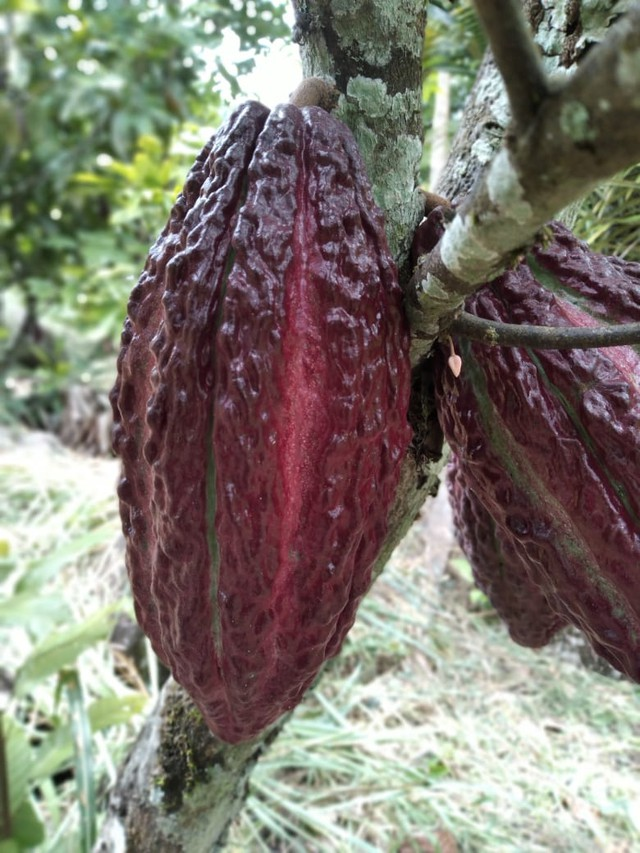Health: (106, 84, 418, 746)
